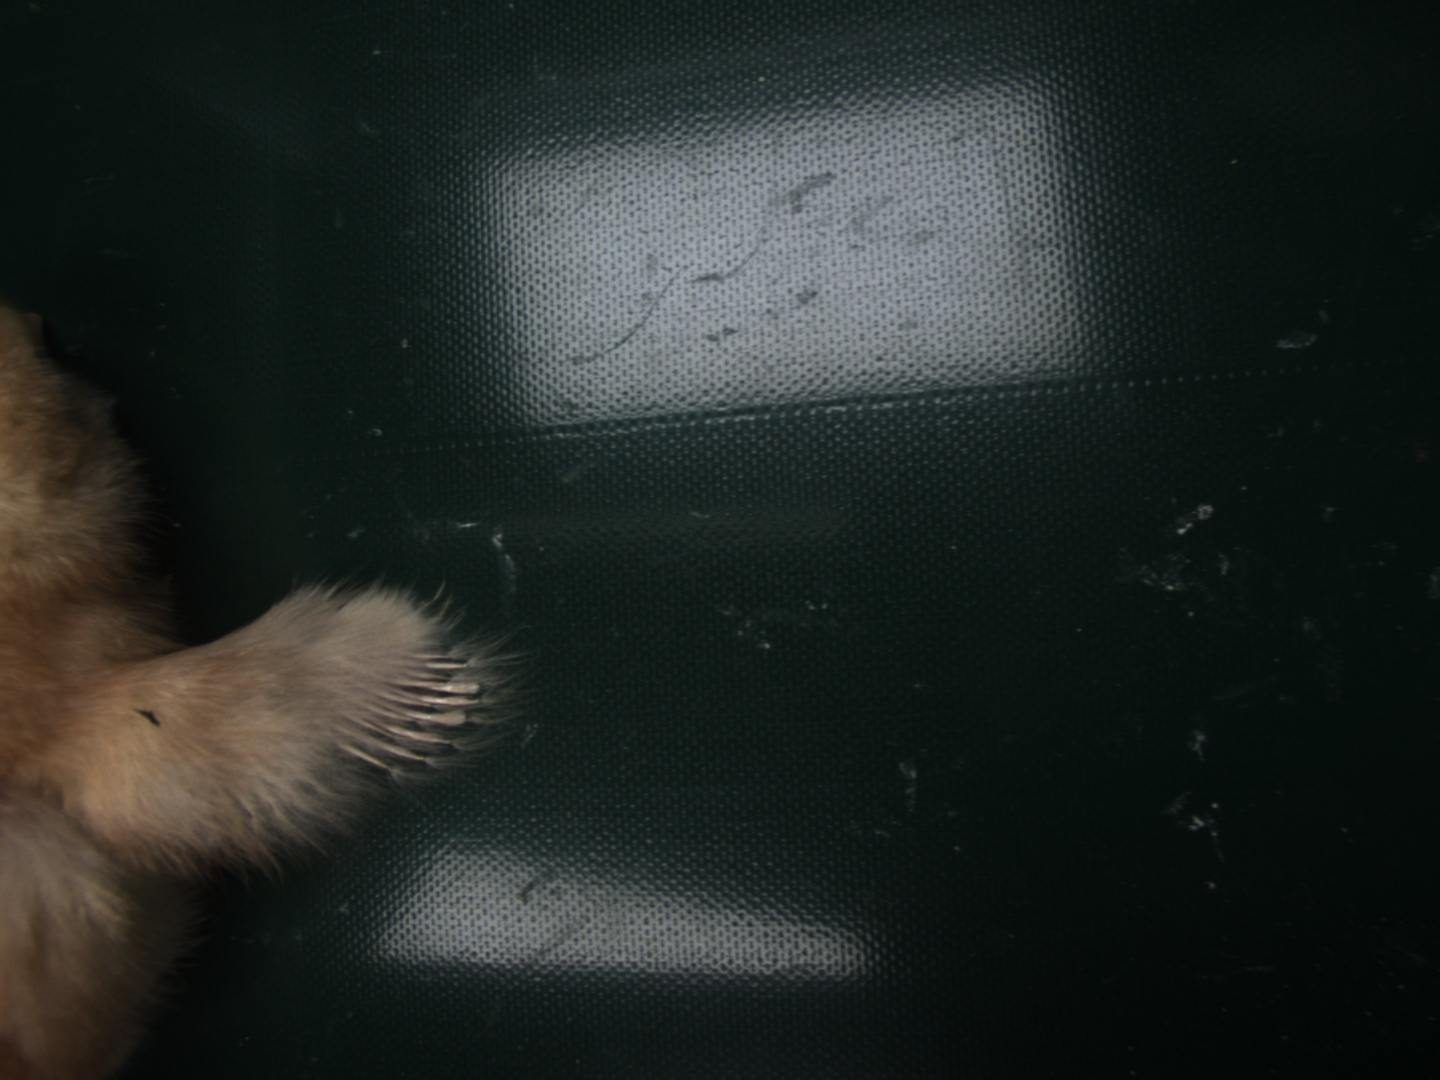female: (338, 649, 481, 775)
